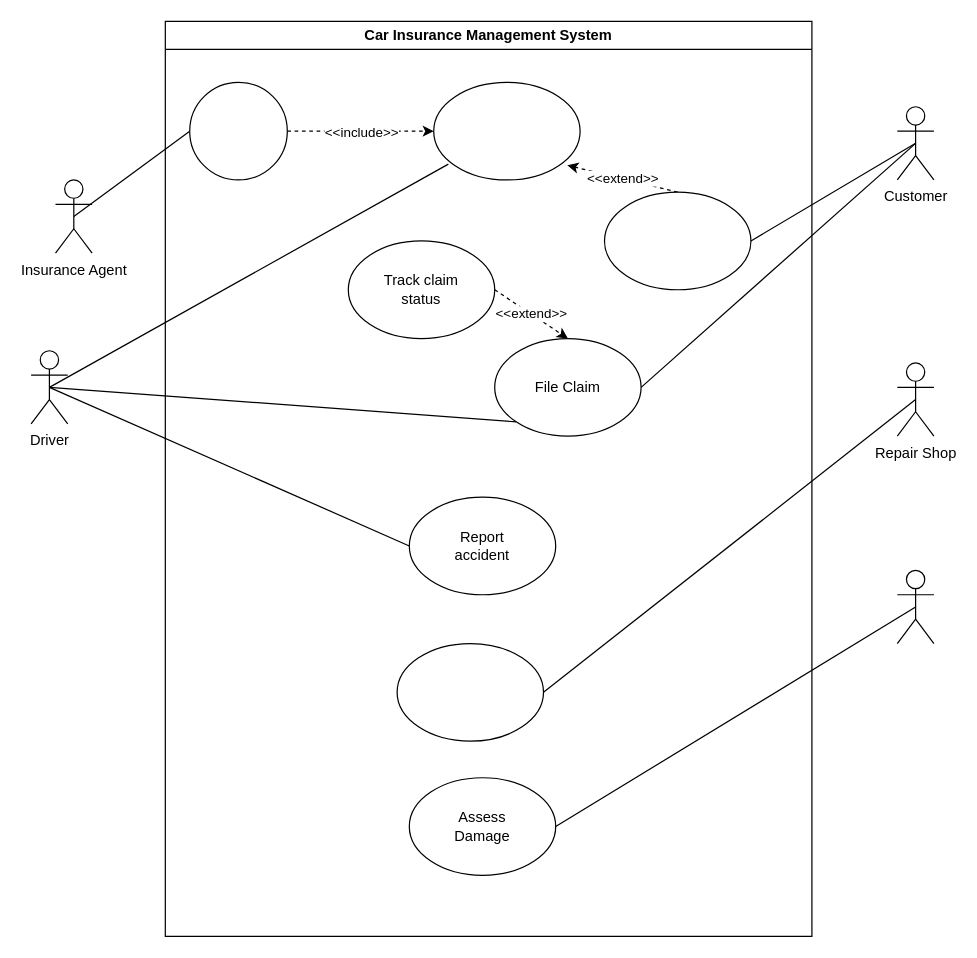
This 977x958 diagram has some shape labels left out. Each missing label, with the centre of its shape:
"Choose a policy" belongs at pixel 677 240.
"Create Insurance Policy" belongs at pixel 237 130.
"Perform repair" belongs at pixel 470 691.
"Surveyor" belongs at pixel 915 606.
"View available policies" belongs at pixel 506 130.
